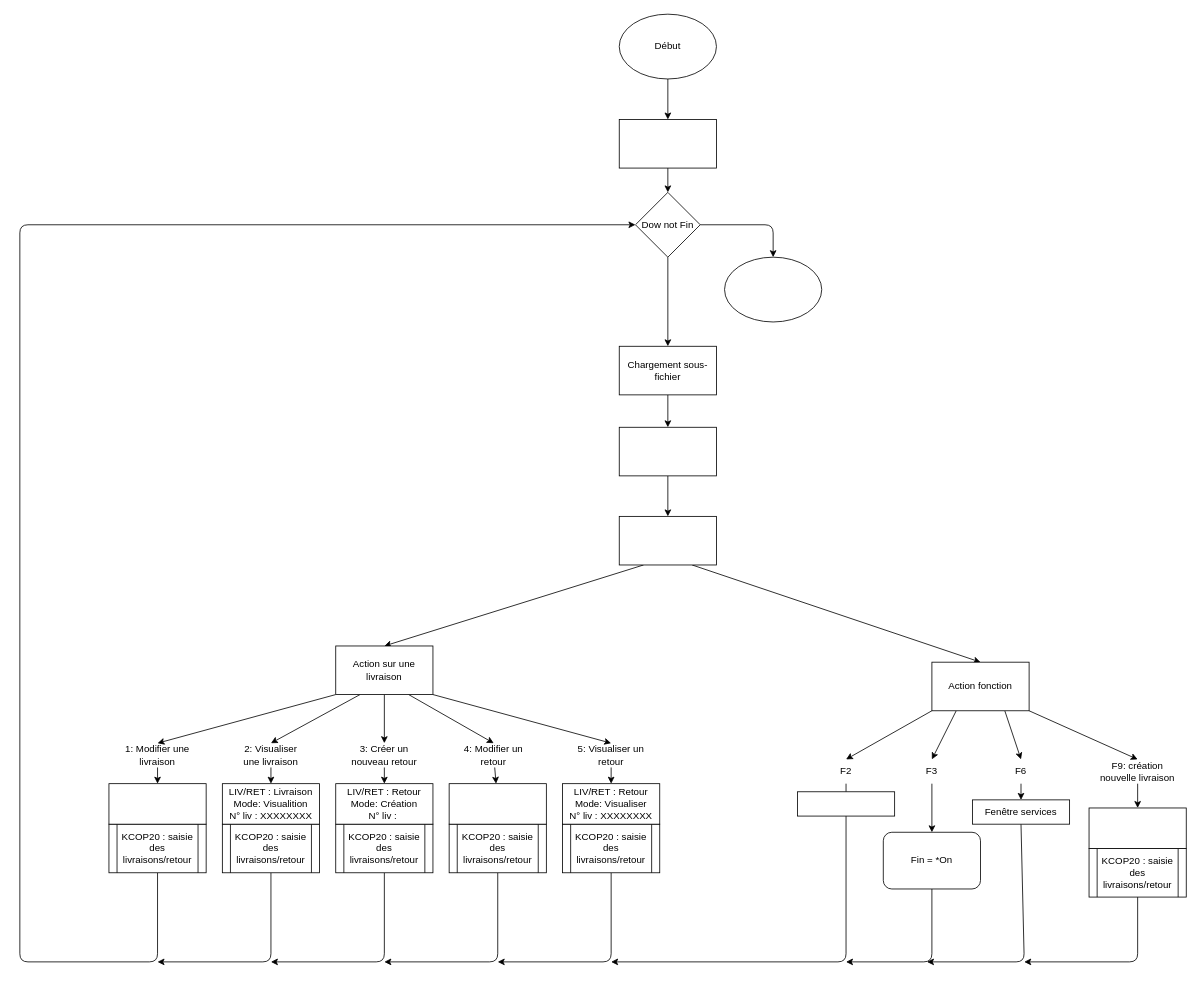
Some shapes in this 1200 by 983 pixel diagram are drawn without their labels. Each missing label, with the centre of its shape:
Affichage écran: point (667, 451)
Fenêtre utilisateur: point (846, 803)
Fin: point (773, 289)
Initialisation: point (667, 143)
LIV/RET : Livraison Mode: Création N° liv :: point (1137, 827)
LIV/RET : Livraison Mode: Modification N° liv : XXXXXXXX: point (157, 803)
LIV/RET : Retour Mode: Modification N° liv : XXXXXXXX: point (497, 803)
Traitement entrée: point (667, 540)
